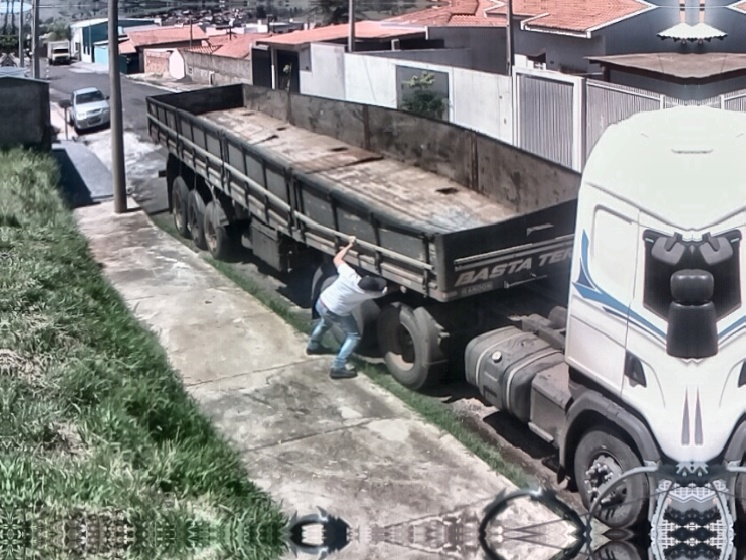person: (306, 233, 395, 380)
